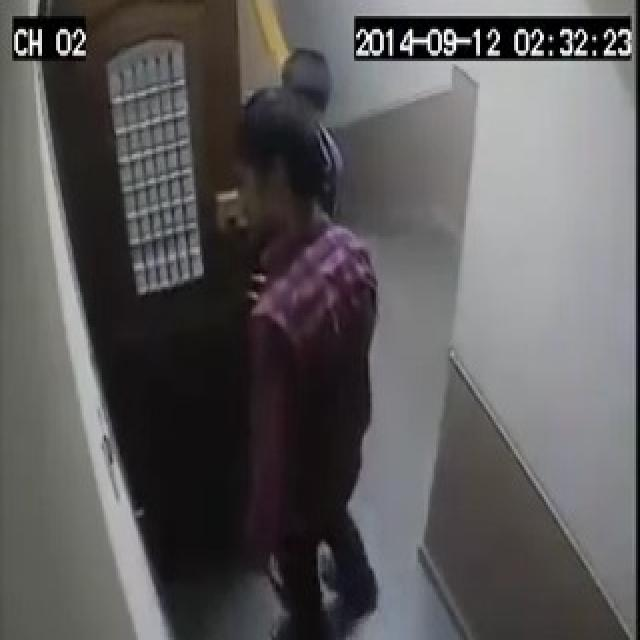burglary: (129, 41, 397, 444)
